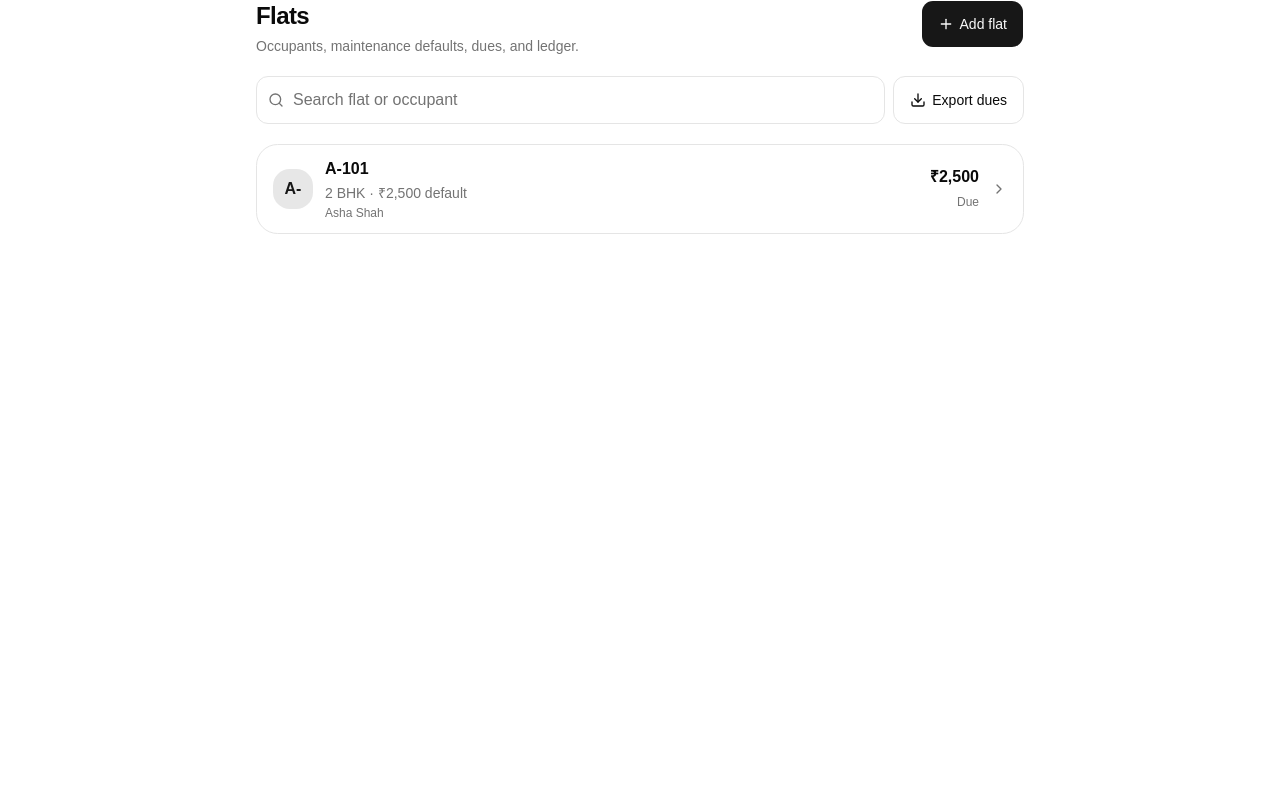
Scenario: FlatsPage — searchable setup and contextual detail › adds a tenant from flat detail and immediately shows the new default payer
Click the button "A- A-101 2 BHK · ₹2,500 default Asha Shah ₹2,500 Due": (293, 189) [257,145,1023,233]
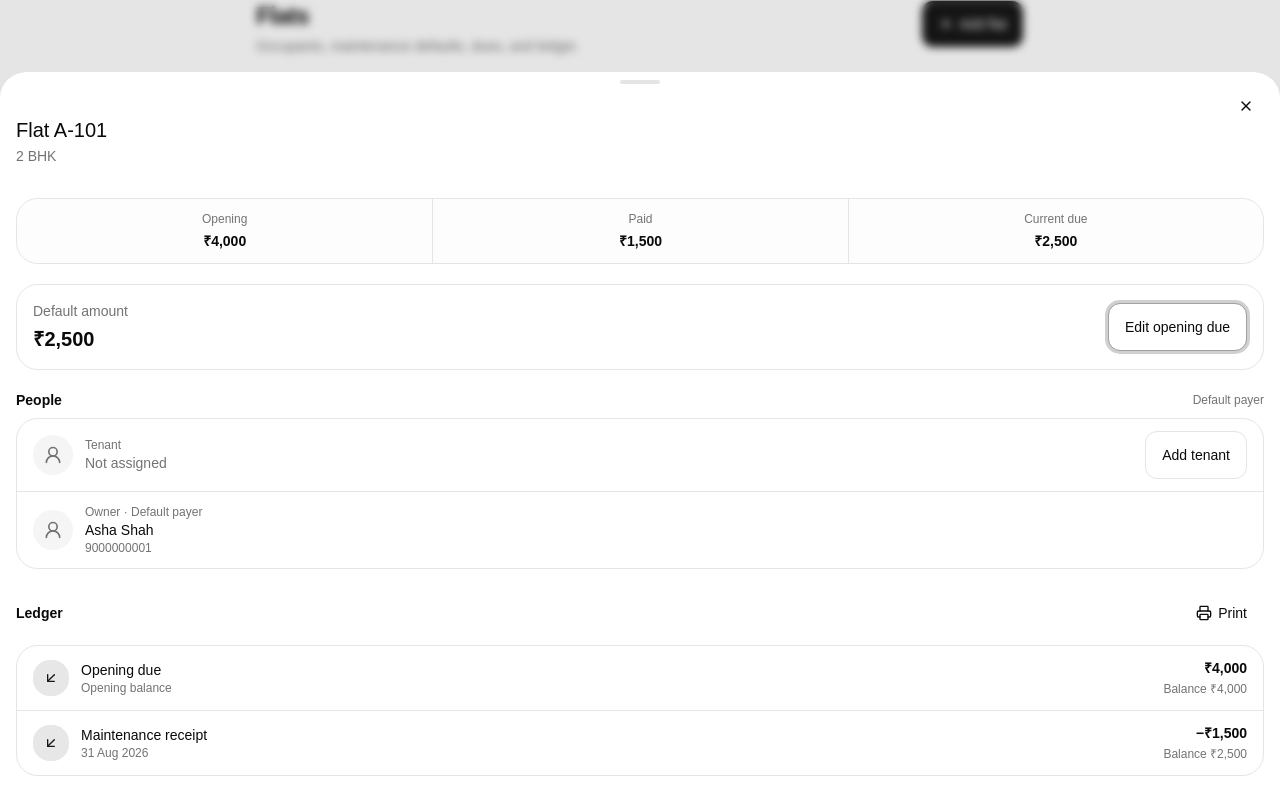
Click the button "Add tenant": (1196, 455) [1145,431,1247,479]
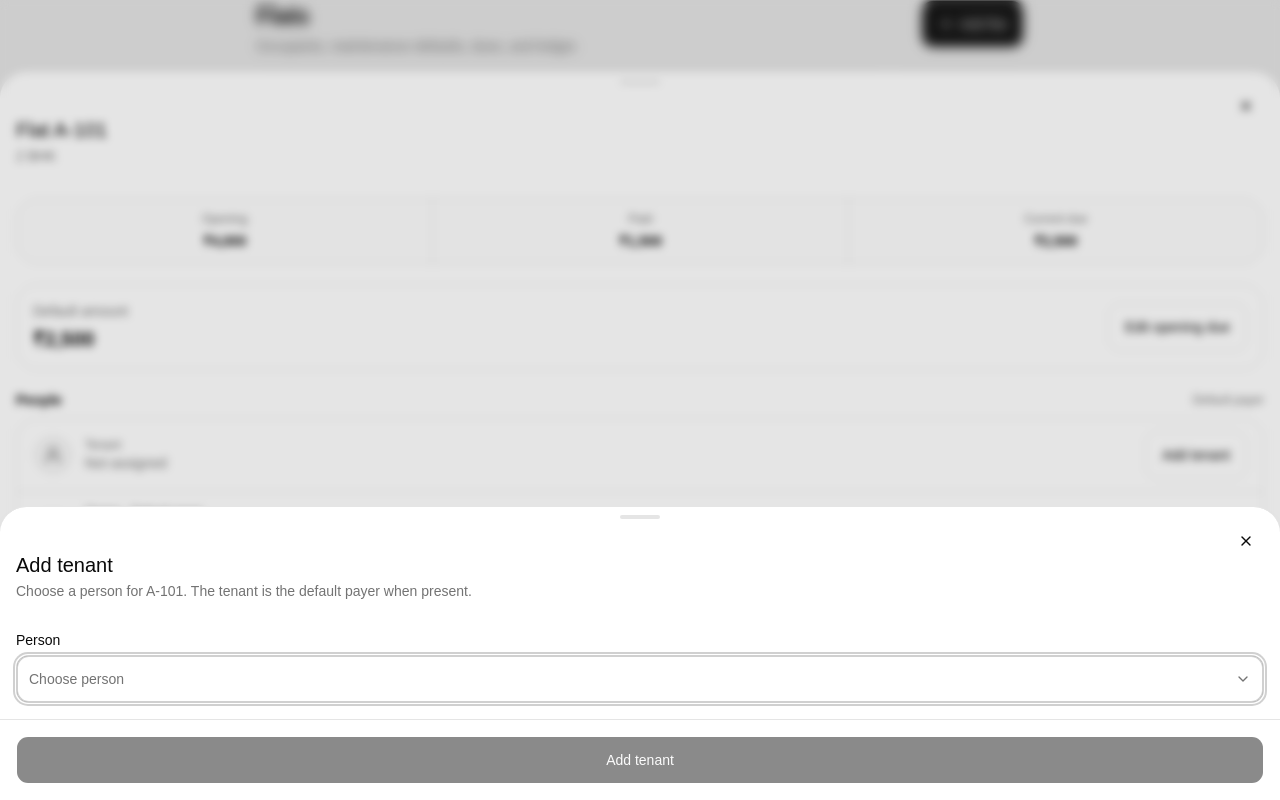
Click the dropdown labelled "person": (76, 679) [16,655,1264,703]
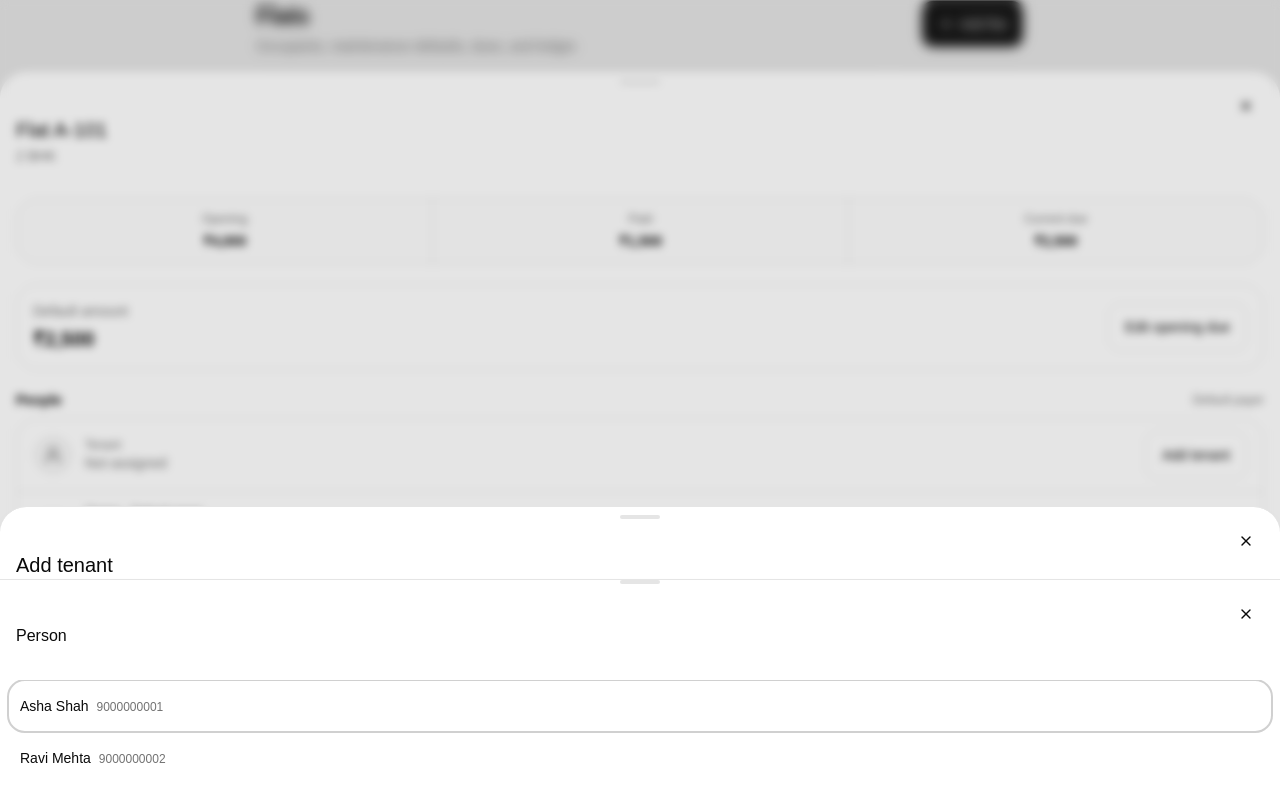
Click the option "Ravi Mehta9000000002": (55, 758) [8,732,1272,784]
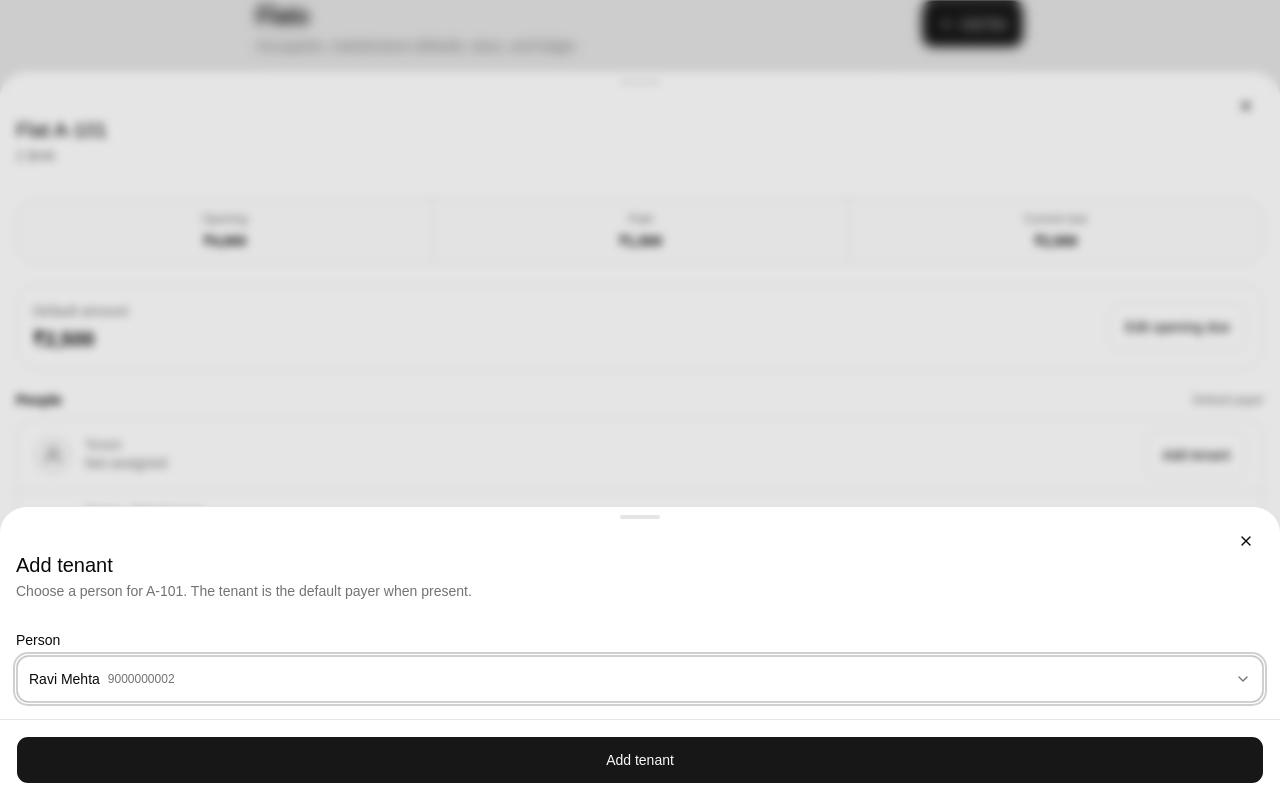
Click the button "Add tenant": (640, 760) [16,736,1264,784]
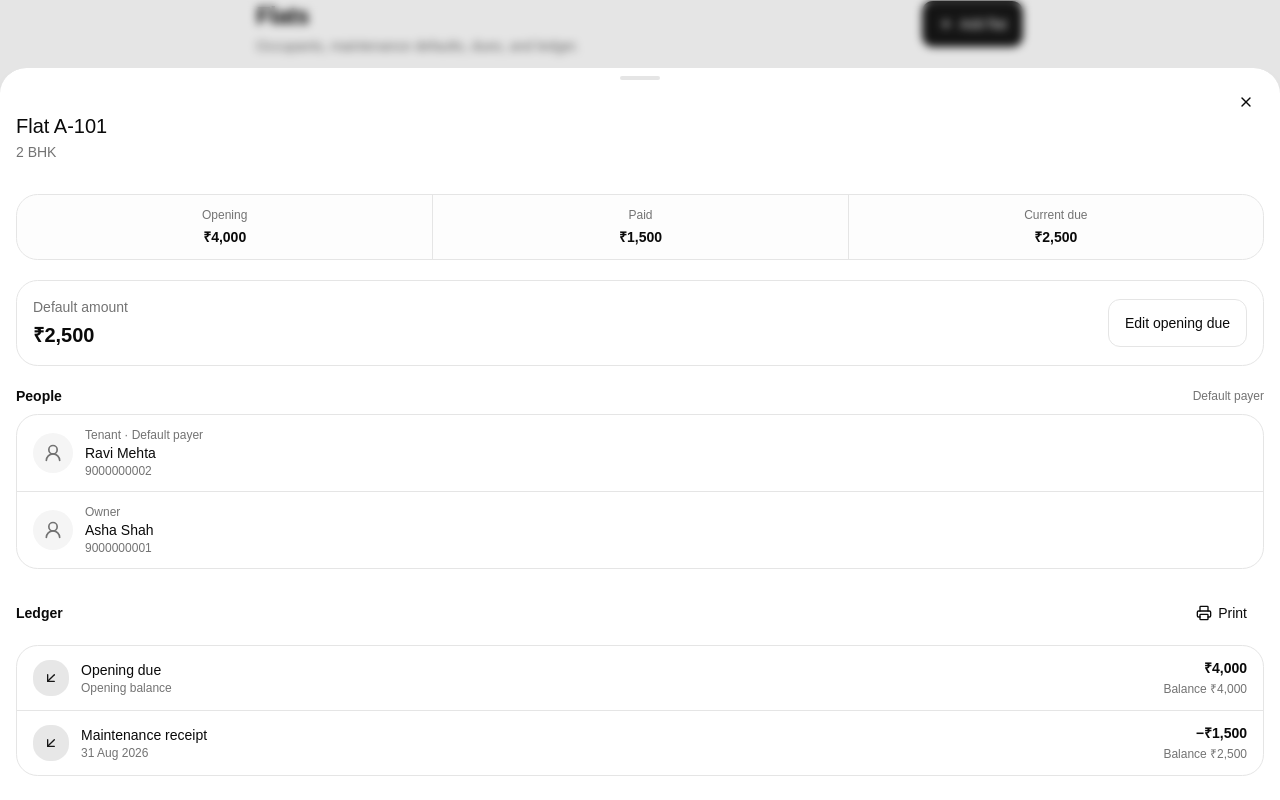
Expected: the text "Ravi Mehta" is shown, [85,445,156,461]
Expected: the text "Tenant · Default payer" is shown, [85,428,203,442]
